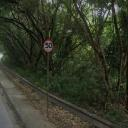speed_limit_50: (43, 40, 53, 52)
